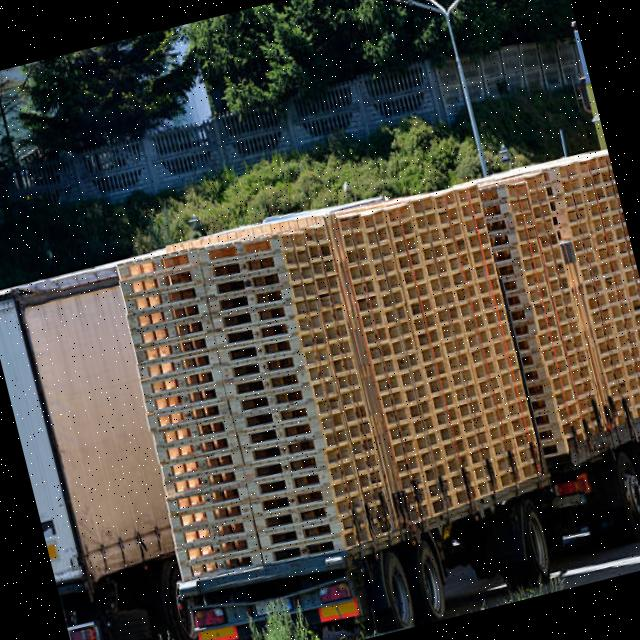Wooden-Pallets: (150, 473, 261, 523), (252, 507, 350, 559), (243, 425, 334, 470), (110, 243, 197, 290), (213, 313, 302, 358), (143, 389, 234, 430), (199, 233, 287, 274), (201, 274, 300, 305), (373, 191, 424, 232), (475, 287, 517, 323), (452, 181, 489, 212)
